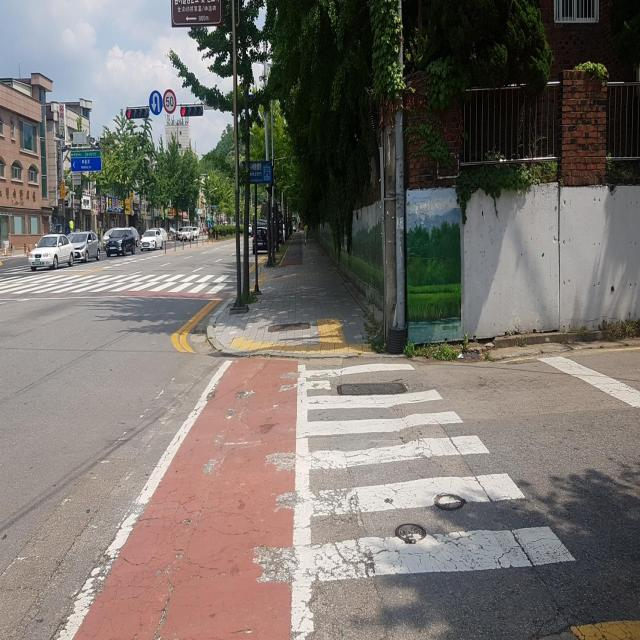횡단보도: (304, 358, 578, 640), (1, 273, 237, 298)
